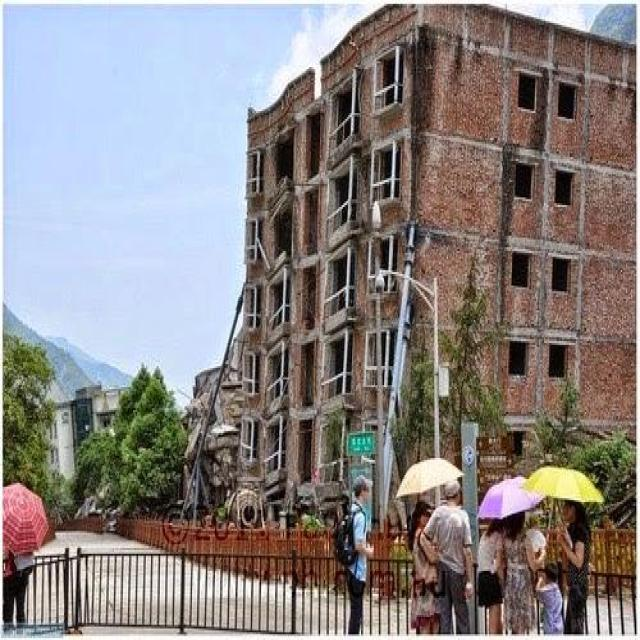damage: (169, 334, 270, 534), (238, 128, 314, 312)
